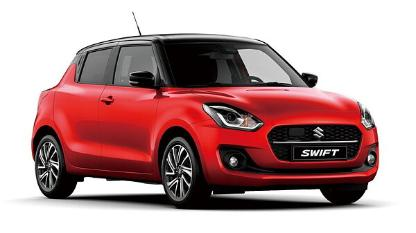car: (28, 9, 384, 212)
